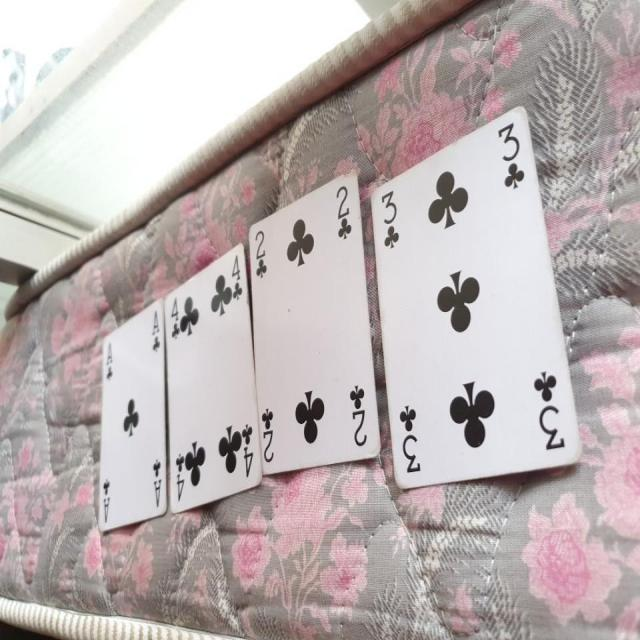2 Trefoils: (244, 168, 383, 473)
3 Trefoils: (368, 107, 583, 490)
4 Trefoils: (165, 240, 264, 515)
A Trefoils: (97, 293, 168, 530)
